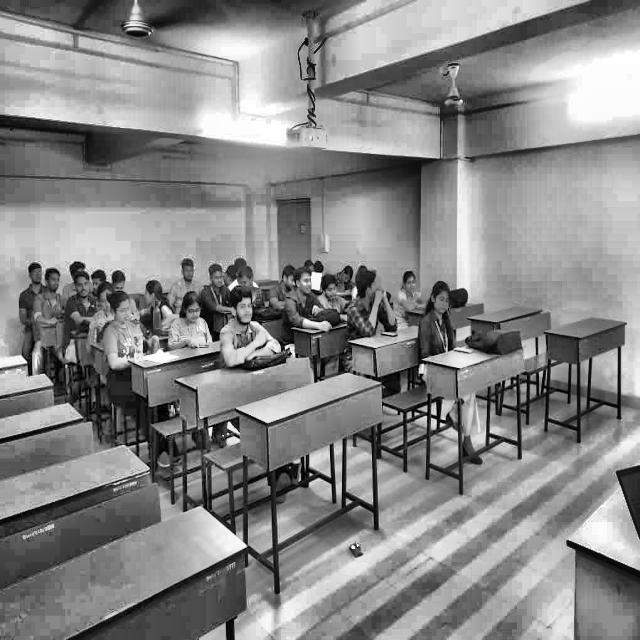Focus: (108, 296, 138, 326), (180, 293, 203, 325), (294, 263, 313, 298), (207, 262, 227, 291), (28, 259, 44, 286), (46, 269, 61, 294), (339, 264, 354, 286)
Not Focus: (229, 286, 256, 324), (430, 279, 454, 319), (402, 269, 419, 296)
